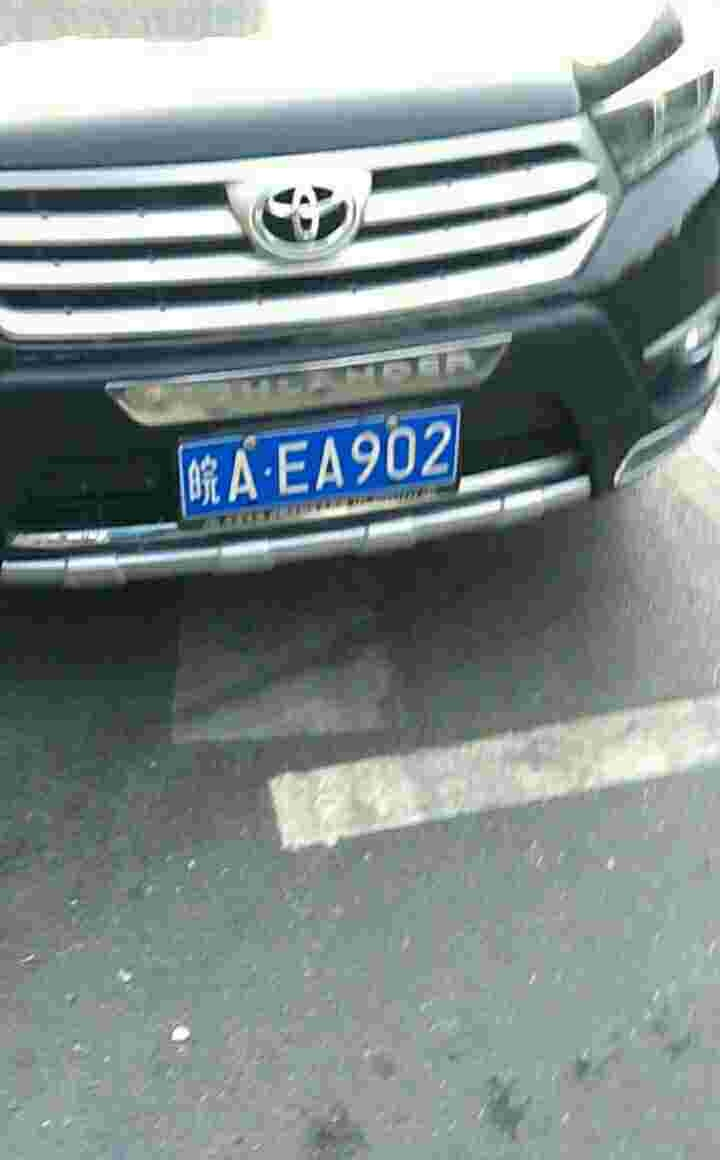license_plate: (169, 411, 471, 529)
